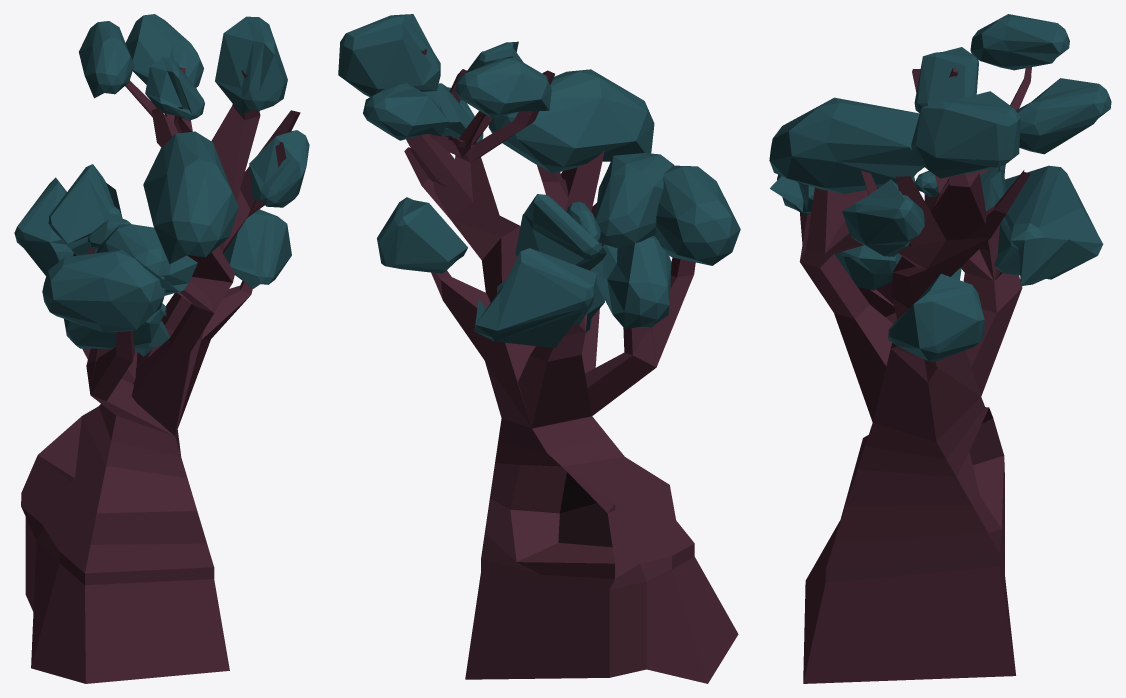
File: wisetree.fbx
3 views of the same model, side by side, from view 1: azimuth 30°, elevation 25°; view 2: azimuth 150°, elevation 25°; view 3: azimuth 270°, elevation 25° (orthographic). The views are drawn at different scales.
Visible parts, largest first — view 1: Cube; view 2: Cube; view 3: Cube.
Boxes of the visible parts, x1,y1,x2,y2 form: Cube: (14, 14, 309, 683); Cube: (338, 14, 740, 683); Cube: (769, 14, 1111, 683).
Bounding box in the file's own units: 5462 × 10349 × 4924.
